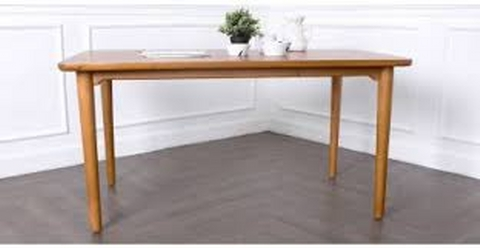meja: (59, 49, 413, 231)
